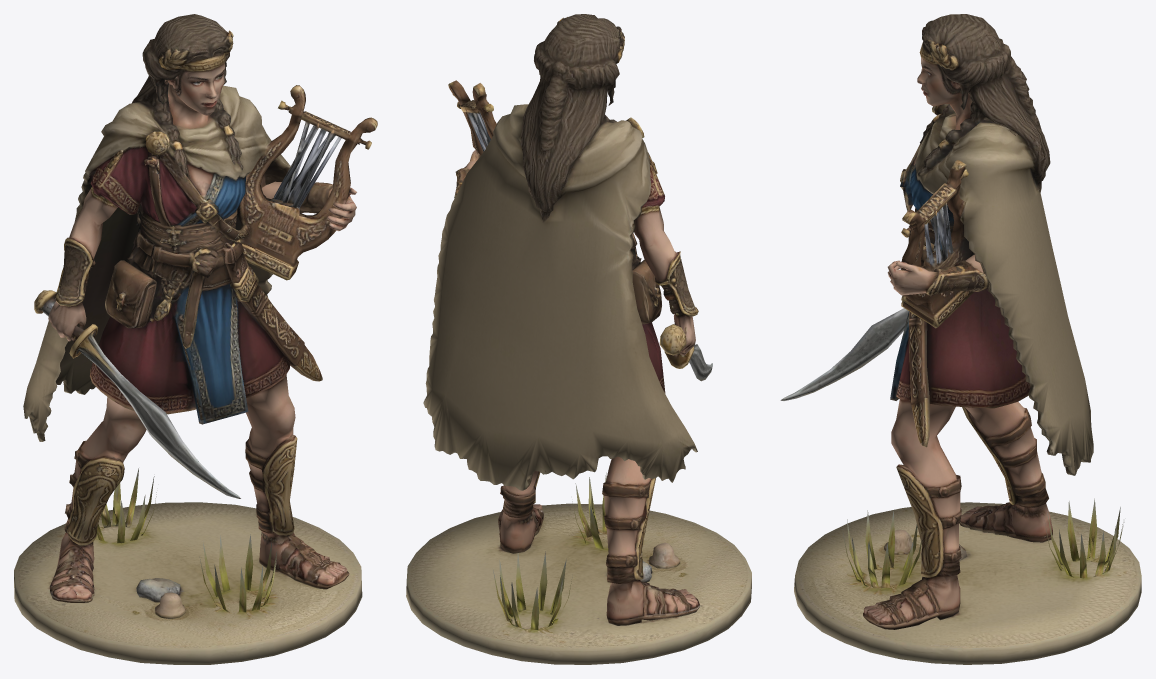
Rendered from bard_def_female.glb.
The picture shows the model from 3 angles, left to right: view 1: azimuth 30°, elevation 25°; view 2: azimuth 150°, elevation 25°; view 3: azimuth 270°, elevation 25°; orthographic projection.
Visible parts, largest first — view 1: tripo_node_4d5a5f1a-89d7-4208-bcca-52532945a6d3; view 2: tripo_node_4d5a5f1a-89d7-4208-bcca-52532945a6d3; view 3: tripo_node_4d5a5f1a-89d7-4208-bcca-52532945a6d3.
Boxes of the visible parts, x1,y1,x2,y2 form: tripo_node_4d5a5f1a-89d7-4208-bcca-52532945a6d3: (14, 14, 377, 664); tripo_node_4d5a5f1a-89d7-4208-bcca-52532945a6d3: (406, 14, 751, 664); tripo_node_4d5a5f1a-89d7-4208-bcca-52532945a6d3: (780, 14, 1141, 664).
Size of the model in its own units: 0.5684 by 0.998 by 0.5723.
Materials: 1 (1 with a texture image).
